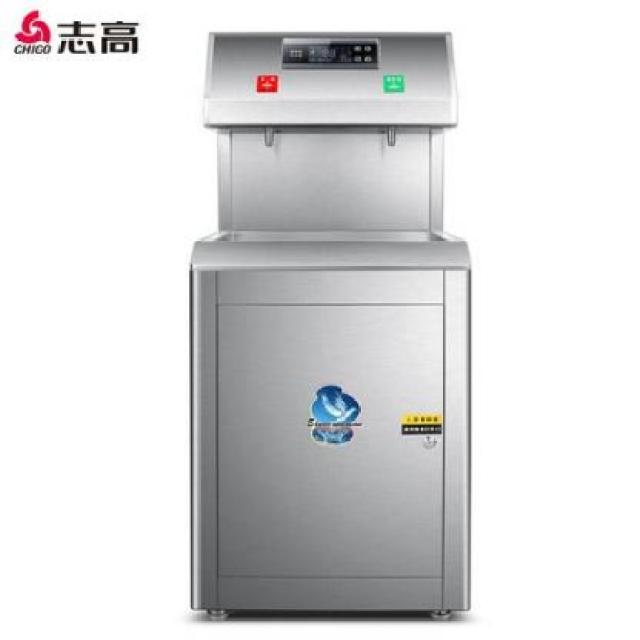cooler: (190, 28, 472, 627)
